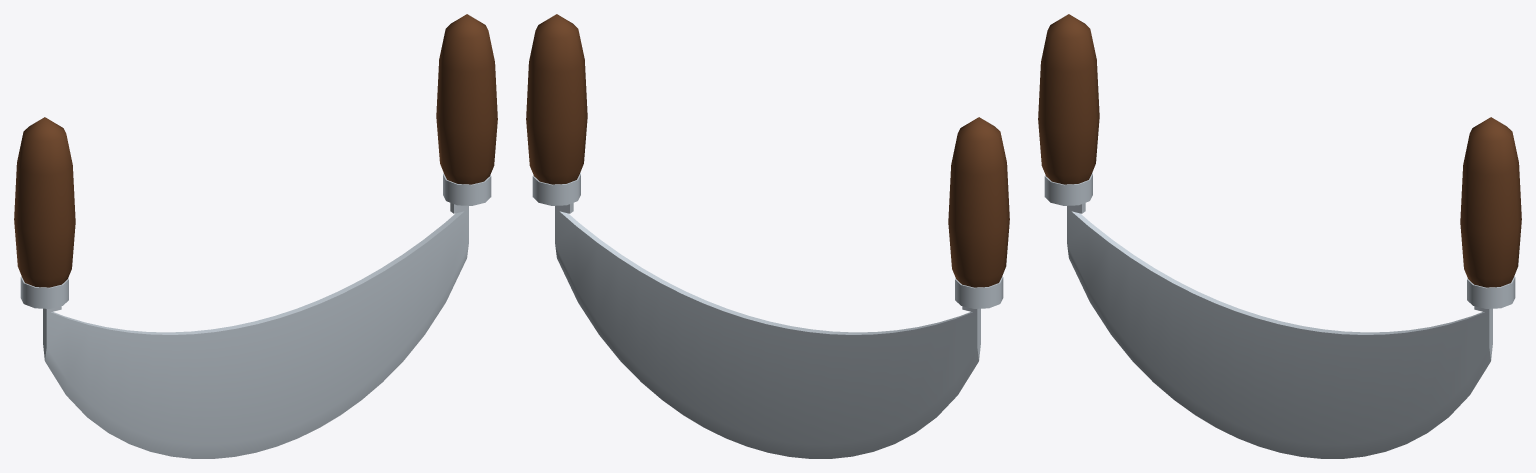
File: mezzaluna.glb
3 renders of one model, left to right at view 1: azimuth 30°, elevation 25°; view 2: azimuth 150°, elevation 25°; view 3: azimuth 330°, elevation 25°, orthographic.
Visible parts, largest first — view 1: Blade, HandleLeft, HandleRight; view 2: Blade, HandleLeft, HandleRight; view 3: Blade, HandleRight, HandleLeft.
Part boxes in pixels (box(x1,y1,x2,y2)): Blade: box(43, 203, 468, 458); HandleLeft: box(14, 117, 75, 308); HandleRight: box(436, 14, 497, 205); Blade: box(555, 203, 980, 458); HandleLeft: box(948, 117, 1009, 308); HandleRight: box(526, 14, 587, 205); Blade: box(1067, 203, 1492, 458); HandleRight: box(1460, 117, 1521, 308); HandleLeft: box(1038, 14, 1099, 205).
Bounding box in the file's own units: 0.1916 × 0.149 × 0.0205.
